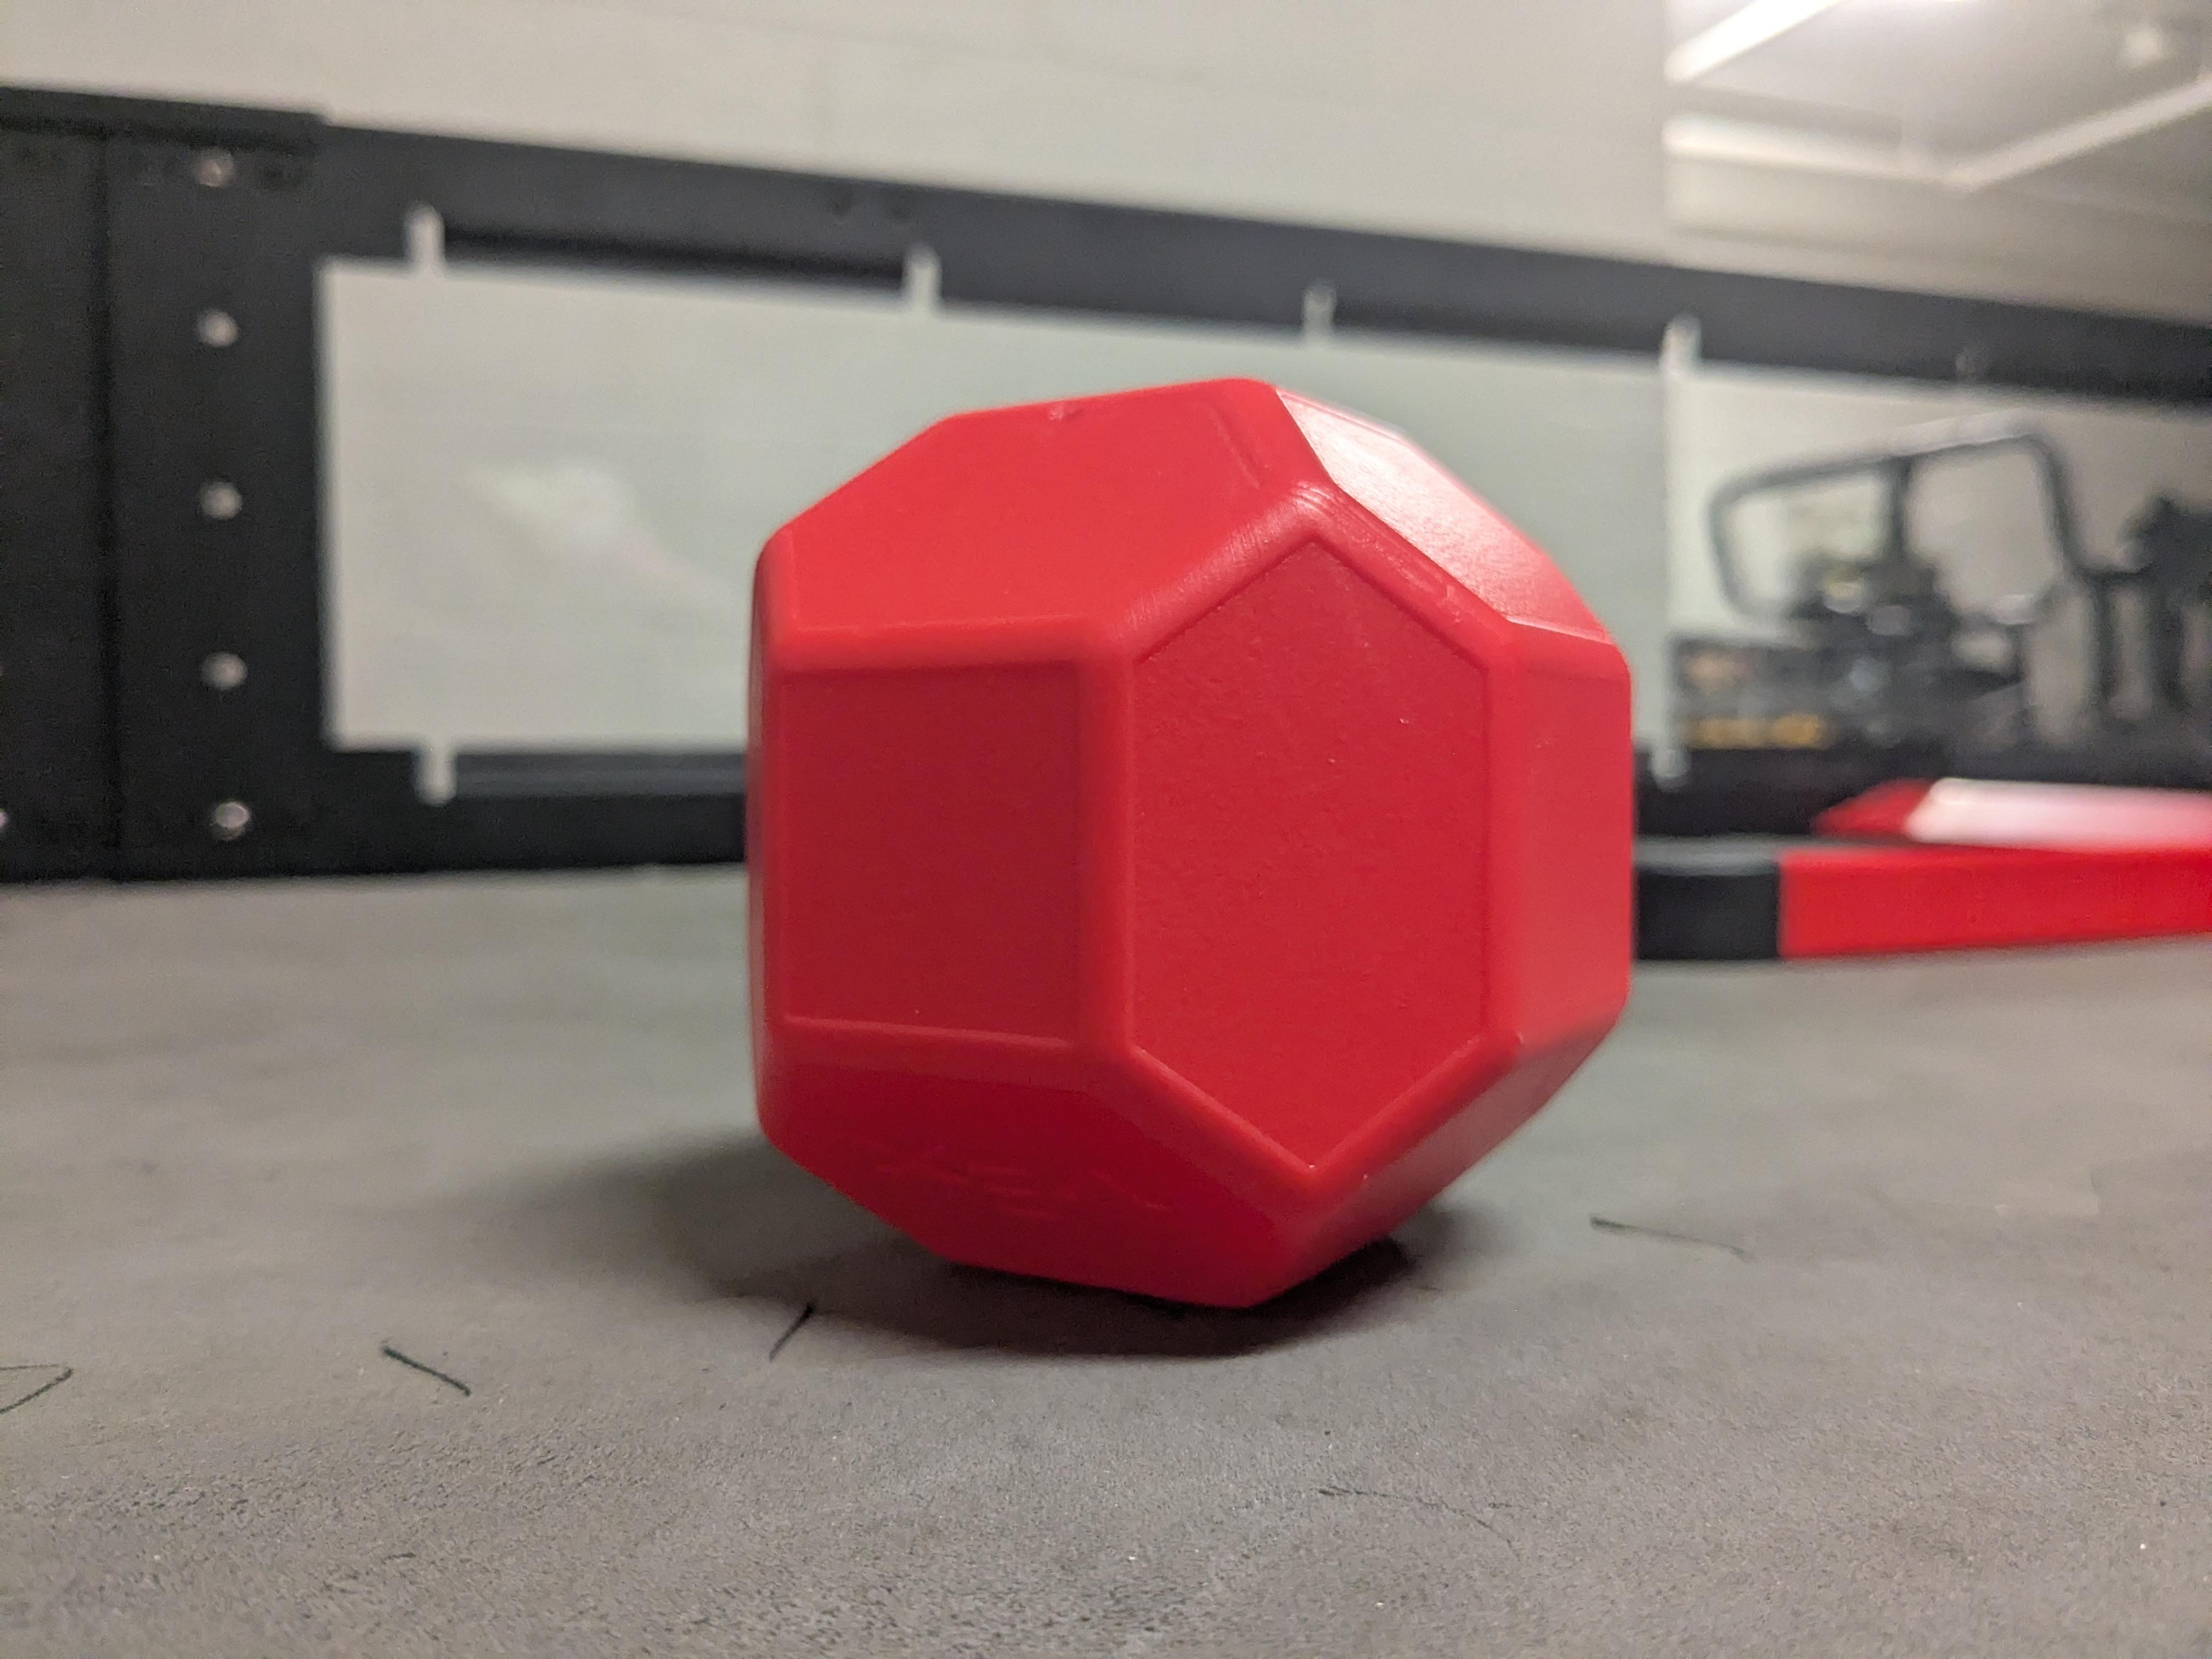Vex-Pieces-RED: (761, 378, 1644, 1291)
